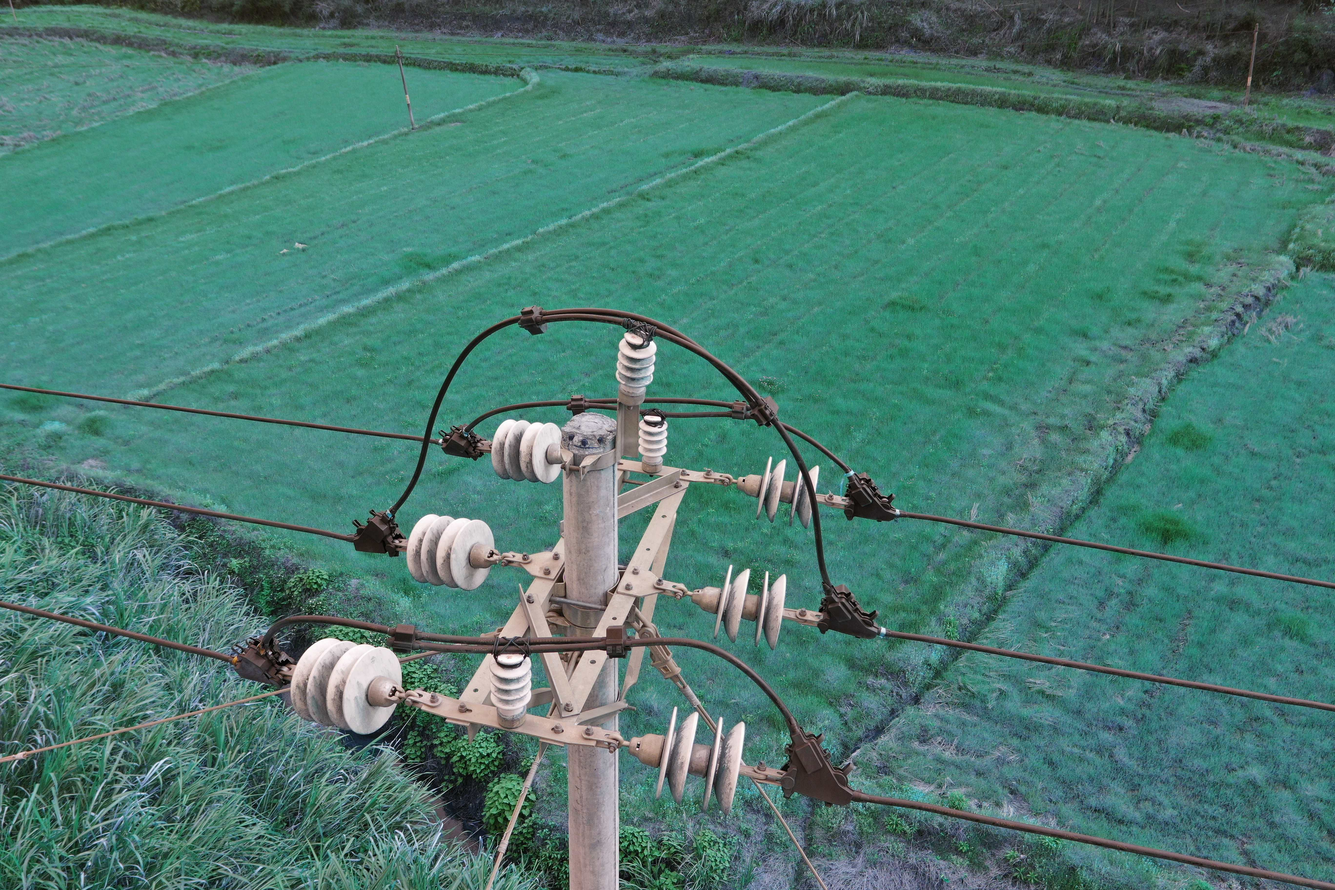severe_soiling_no_discharge_whole: (627, 701, 746, 818), (286, 634, 402, 737), (689, 562, 789, 652), (403, 513, 497, 592), (736, 454, 820, 529), (488, 416, 566, 485), (484, 648, 535, 730), (614, 327, 657, 408)
